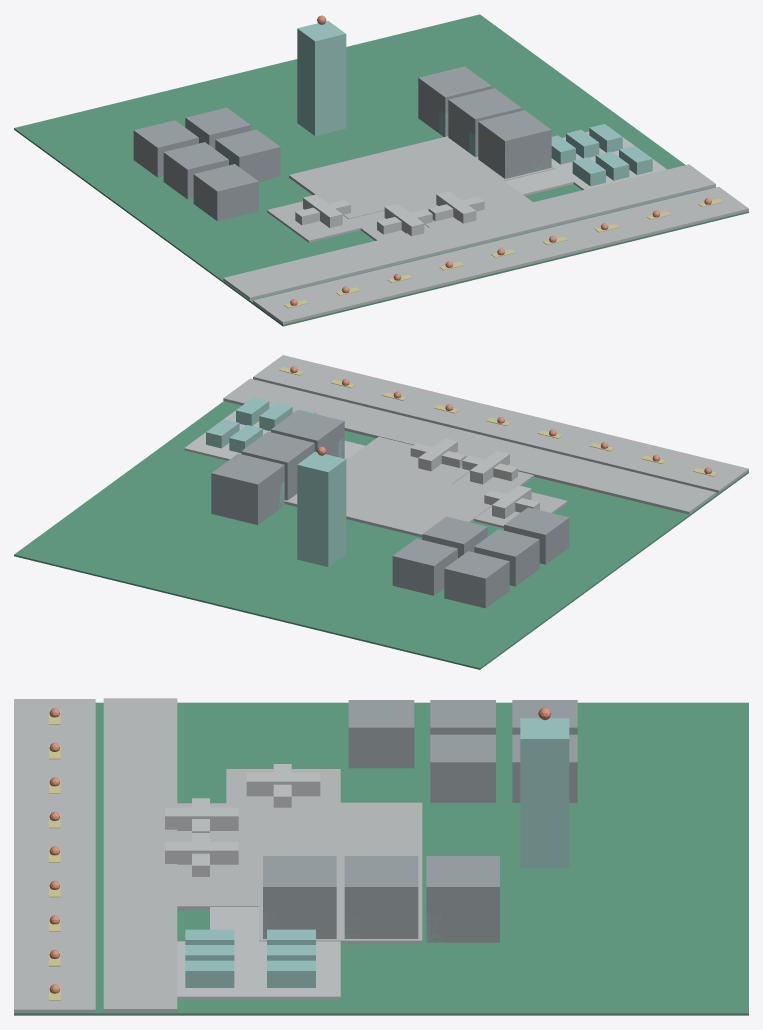
File: stage_20.glb
3 views of the same model, one above another, from view 1: azimuth 30°, elevation 25°; view 2: azimuth 150°, elevation 25°; view 3: azimuth 270°, elevation 25° (orthographic). The views are drawn at different scales.
Parts seen in each view (by area): view 1: geometry_0; view 2: geometry_0; view 3: geometry_0.
Boxes of the visible parts, box(x1,y1,x2,y2) form: geometry_0: box(14, 14, 748, 326); geometry_0: box(14, 355, 748, 669); geometry_0: box(14, 698, 748, 1015).
Size of the model in its own units: 9 by 2.06 by 9.
